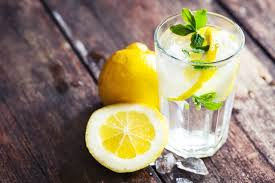lemon: (92, 38, 167, 129)
